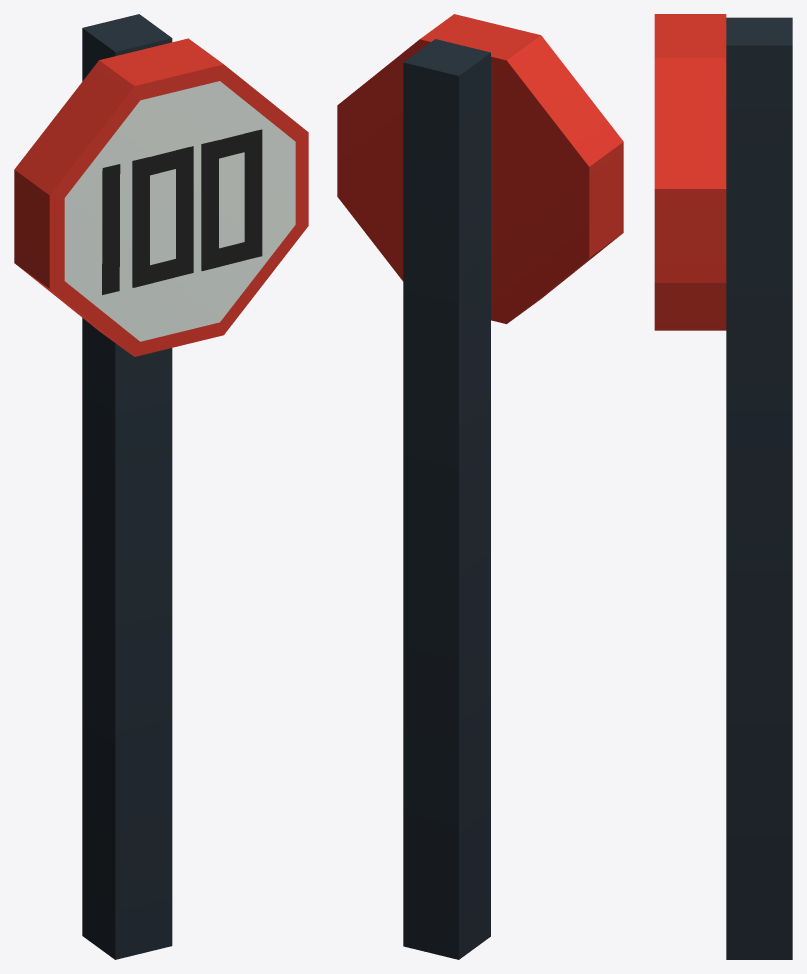
File: Road_sign_max_Speed_100.fbx
3 views of the same model, side by side, from view 1: azimuth 30°, elevation 25°; view 2: azimuth 150°, elevation 25°; view 3: azimuth 270°, elevation 25° (orthographic). The views are drawn at different scales.
Visible parts, largest first — view 1: Road_sign_max_Speed_100; view 2: Road_sign_max_Speed_100; view 3: Road_sign_max_Speed_100.
Boxes of the visible parts, box(x1,y1,x2,y2) form: Road_sign_max_Speed_100: box(14, 14, 308, 959); Road_sign_max_Speed_100: box(337, 14, 623, 959); Road_sign_max_Speed_100: box(654, 14, 792, 959).
Bounding box in the file's own units: 107 × 359 × 49.94.
